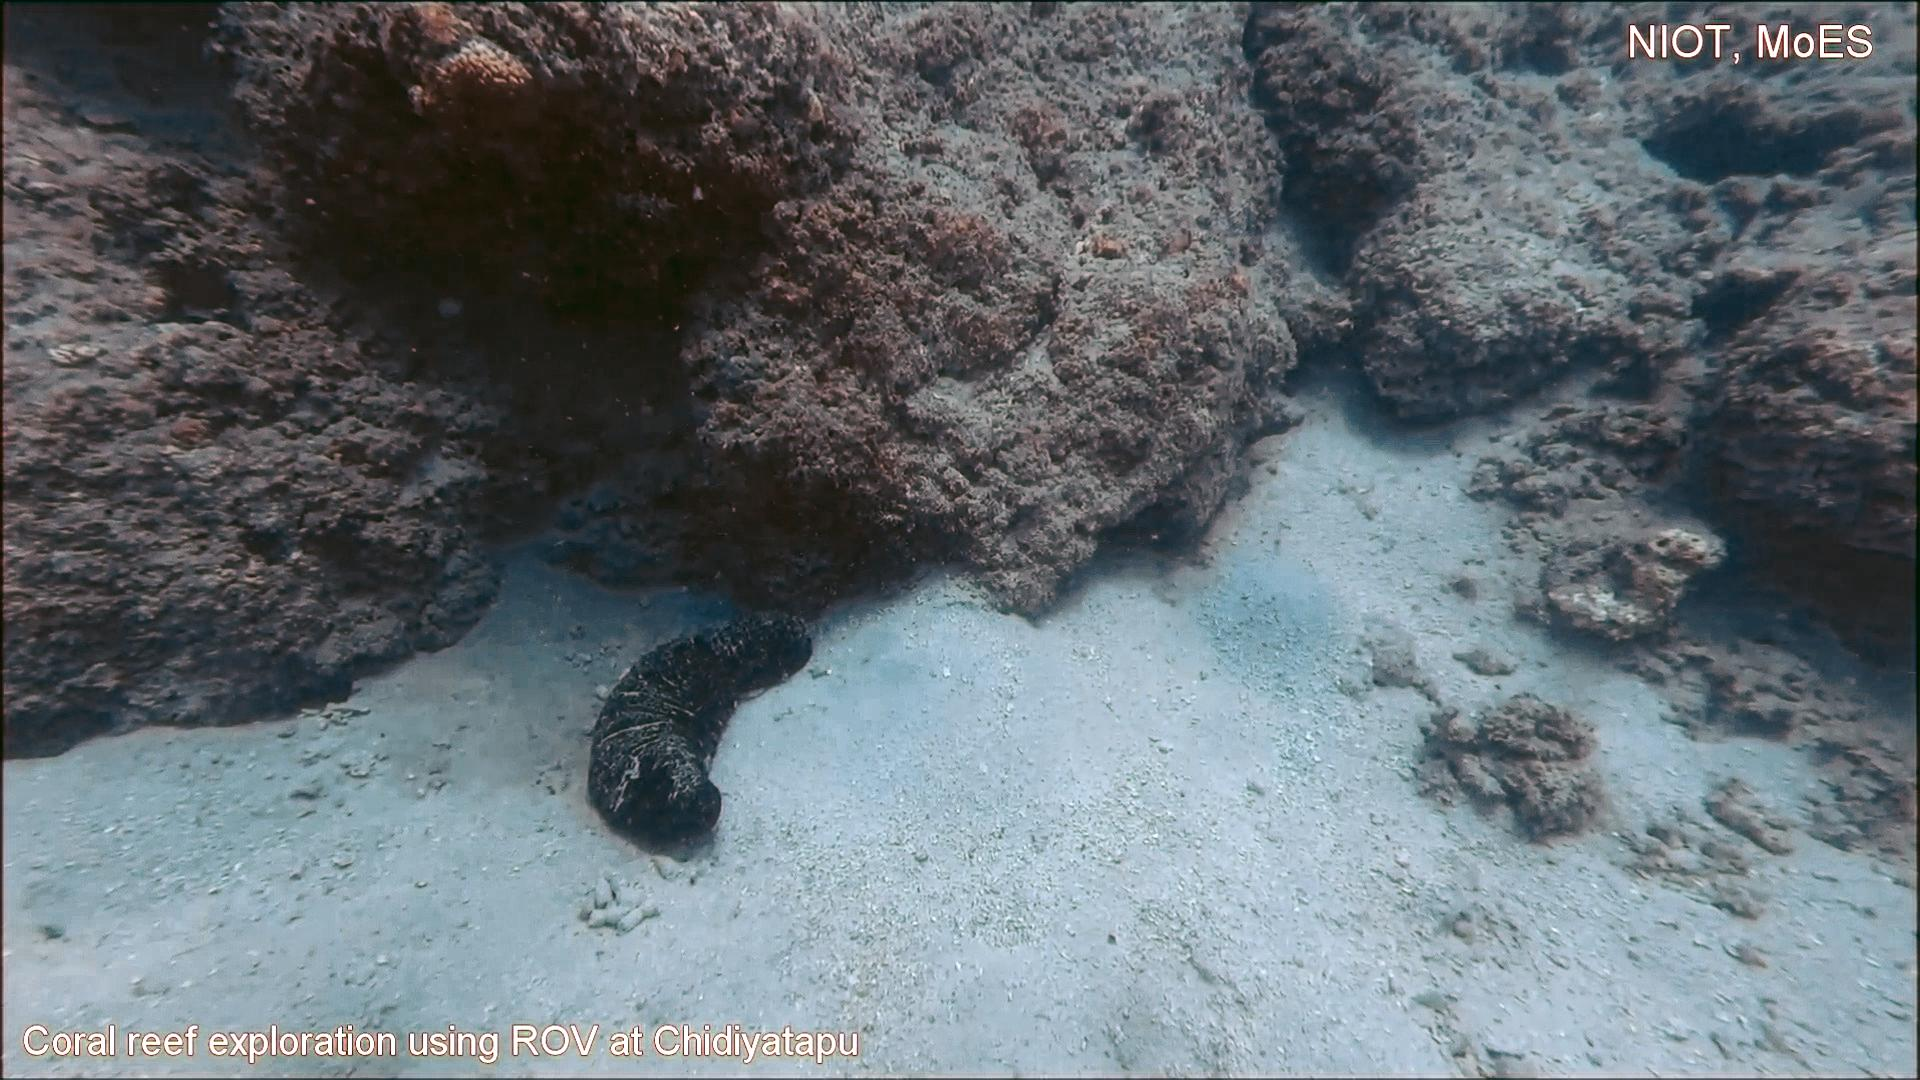Montastraea: (400, 33, 554, 175)
